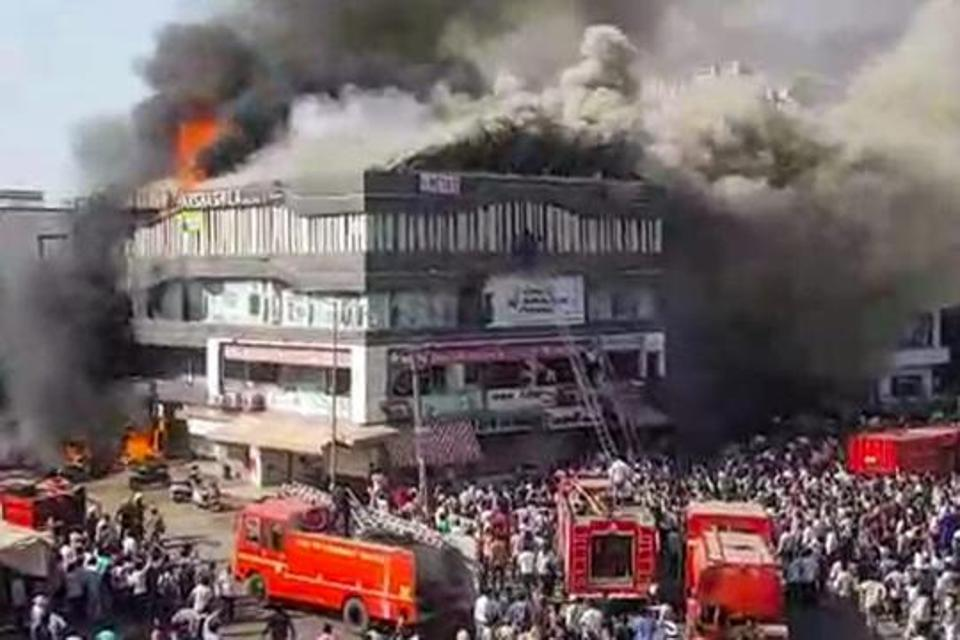Fire: (151, 112, 231, 190), (108, 426, 155, 473)
